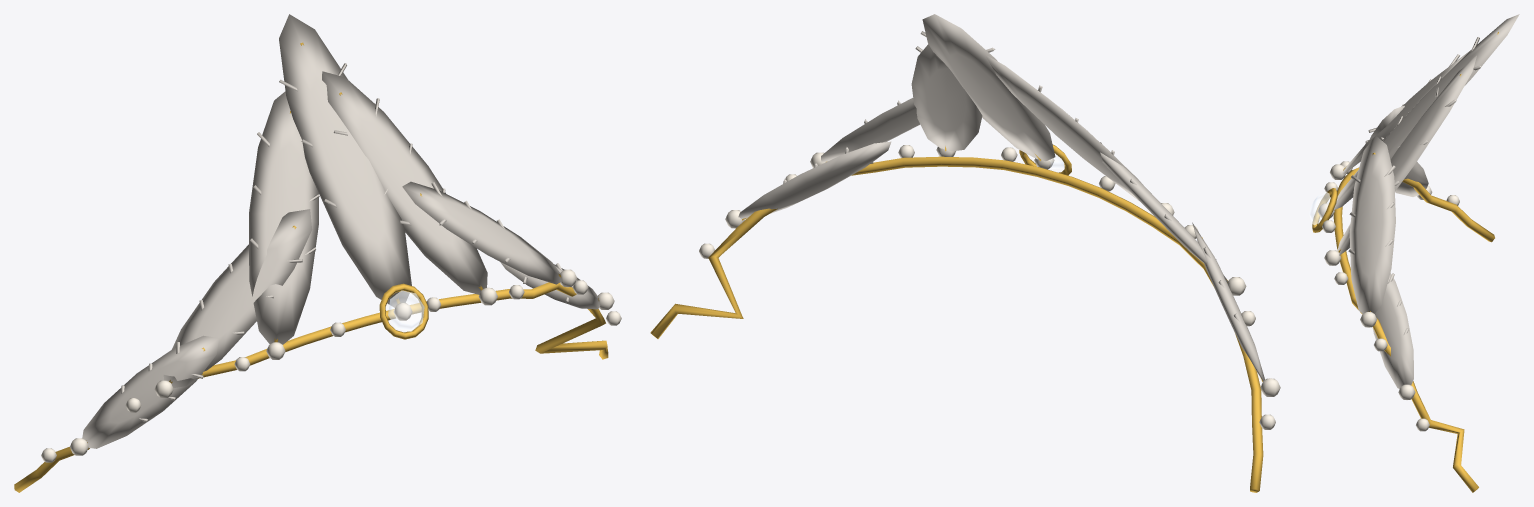
File: feather_tiara.glb
The picture shows the model from 3 angles, left to right: view 1: azimuth 30°, elevation 25°; view 2: azimuth 150°, elevation 25°; view 3: azimuth 270°, elevation 25°; orthographic projection. The views are drawn at different scales.
Parts seen in each view (by area): view 1: feather_tiara; view 2: feather_tiara; view 3: feather_tiara.
Part boxes in pixels (left/top/right/bottom): feather_tiara: left=14, top=14, right=621, bottom=492; feather_tiara: left=650, top=14, right=1280, bottom=492; feather_tiara: left=1309, top=14, right=1519, bottom=492.
Size of the model in its own units: 0.2372 by 0.1538 by 0.0831.
